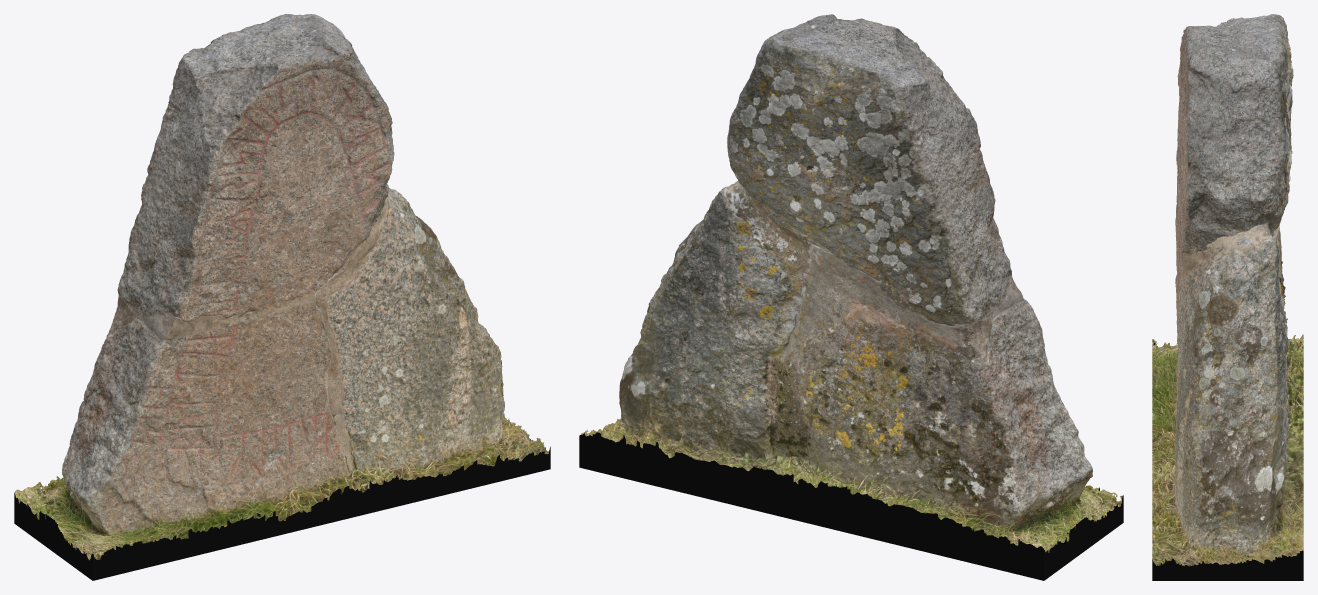
The model's file is runestone_og_166_skanninge_sweden.glb.
The picture shows the model from 3 angles, left to right: view 1: azimuth 30°, elevation 25°; view 2: azimuth 150°, elevation 25°; view 3: azimuth 270°, elevation 25°; orthographic projection. The views are drawn at different scales.
Parts seen in each view (by area): view 1: Og166_Og166_0 (×2), Og166_Og1661_0 (×2), Og166_Base_0; view 2: Og166_Og1661_0 (×2), Og166_Og166_0 (×2), Og166_Base_0; view 3: Og166_Og166_0 (×2), Og166_Og1661_0 (×2), Og166_Base_0.
Boxes of the visible parts, left/top/right/bottom form: Og166_Og166_0 (×2): left=24, top=14, right=540, bottom=555; Og166_Og1661_0 (×2): left=14, top=33, right=549, bottom=560; Og166_Base_0: left=14, top=446, right=550, bottom=580; Og166_Og1661_0 (×2): left=581, top=54, right=1122, bottom=552; Og166_Og166_0 (×2): left=586, top=14, right=1114, bottom=550; Og166_Base_0: left=579, top=432, right=1123, bottom=580; Og166_Og166_0 (×2): left=1152, top=19, right=1303, bottom=566; Og166_Og1661_0 (×2): left=1152, top=14, right=1303, bottom=566; Og166_Base_0: left=1152, top=343, right=1303, bottom=580.
Size of the model in its own units: 0.4715 by 0.451 by 0.1397.
Materials: 3 (2 with a texture image).
